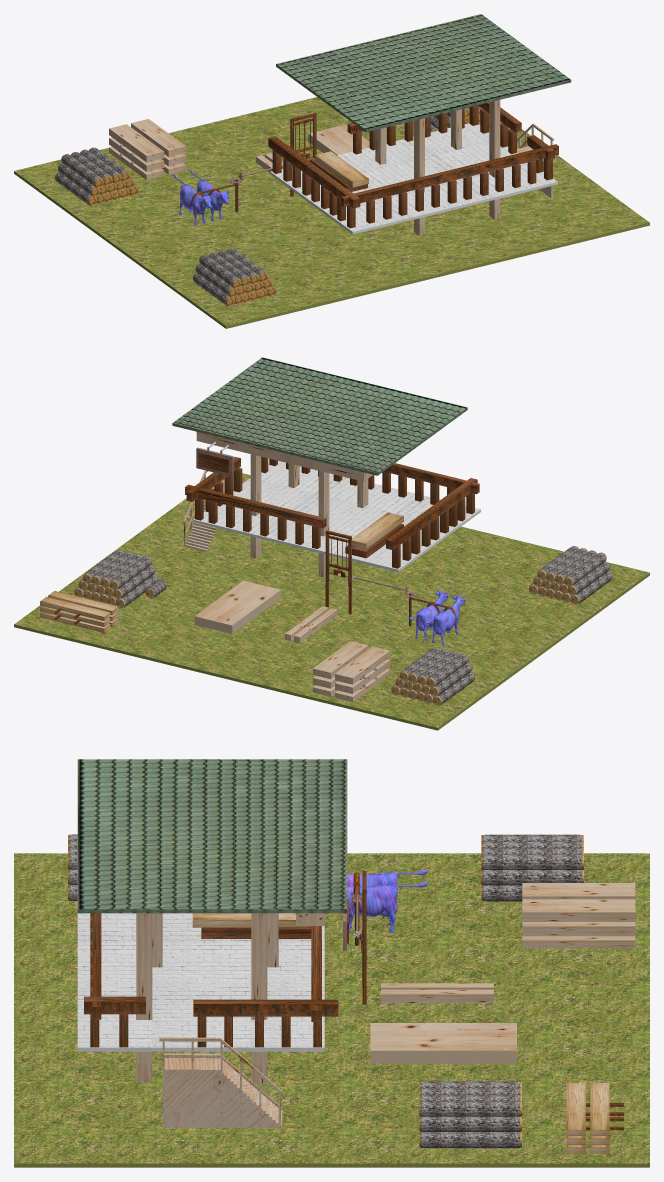
File: Elf-Sawmill.fbx
3 renders of one model, top to bottom at view 1: azimuth 30°, elevation 25°; view 2: azimuth 150°, elevation 25°; view 3: azimuth 270°, elevation 25°, orthographic. The views are drawn at different scales.
Parts seen in each view (by area): view 1: Cubo.005, Terrat, Cubo.003, Cubo.042, Cubo.045, Listones 2, Troncos.000, Troncos.002, Cubo.009, VACAS, Liston, Listones 2.002 (+2 smaller); view 2: Cubo.005, Terrat, Cubo.003, Cubo.042, Cubo.045, Listones 2, Troncos.002, Troncos.000, Troncos.001, Liston, Cubo.009, Listones 2.003 (+6 smaller); view 3: Cubo.005, Terrat, Cubo.003, Listones 2, Escala, Troncos.001, Liston, Troncos.002, Cubo.045, Cubo.009, Listones 2.003, Cubo.042 (+5 smaller).
Part boxes in pixels (x1,y1,x2,y2): Cubo.005: (14, 97, 649, 328); Terrat: (276, 14, 571, 132); Cubo.003: (270, 123, 557, 234); Cubo.042: (272, 105, 552, 228); Cubo.045: (268, 102, 558, 208); Listones 2: (109, 119, 283, 179); Troncos.000: (193, 248, 276, 306); Troncos.002: (55, 147, 138, 205); Cubo.009: (375, 100, 500, 235); VACAS: (173, 169, 235, 225); Liston: (308, 124, 369, 155); Listones 2.002: (315, 151, 368, 187); Cubo.005: (14, 473, 649, 730); Terrat: (172, 357, 467, 475); Cubo.003: (193, 461, 480, 572); Cubo.042: (195, 457, 474, 568); Cubo.045: (185, 457, 479, 549); Listones 2: (285, 606, 390, 702); Troncos.002: (391, 647, 474, 705); Troncos.000: (529, 546, 612, 604); Troncos.001: (74, 549, 158, 607); Liston: (194, 580, 280, 633); Cubo.009: (250, 454, 368, 577); Listones 2.003: (40, 591, 118, 632); Cubo.005: (14, 853, 649, 1167); Terrat: (77, 759, 347, 913); Cubo.003: (77, 913, 324, 1051); Listones 2: (381, 883, 635, 1003); Escala: (159, 1037, 282, 1129); Troncos.001: (419, 1081, 521, 1148); Liston: (370, 1023, 516, 1063); Troncos.002: (481, 834, 583, 901); Cubo.045: (84, 913, 338, 1021); Cubo.009: (136, 913, 278, 1083); Listones 2.003: (566, 1083, 609, 1153); Cubo.042: (90, 913, 321, 1047).
Size of the model in its own units: 1697 by 552 by 1471.
